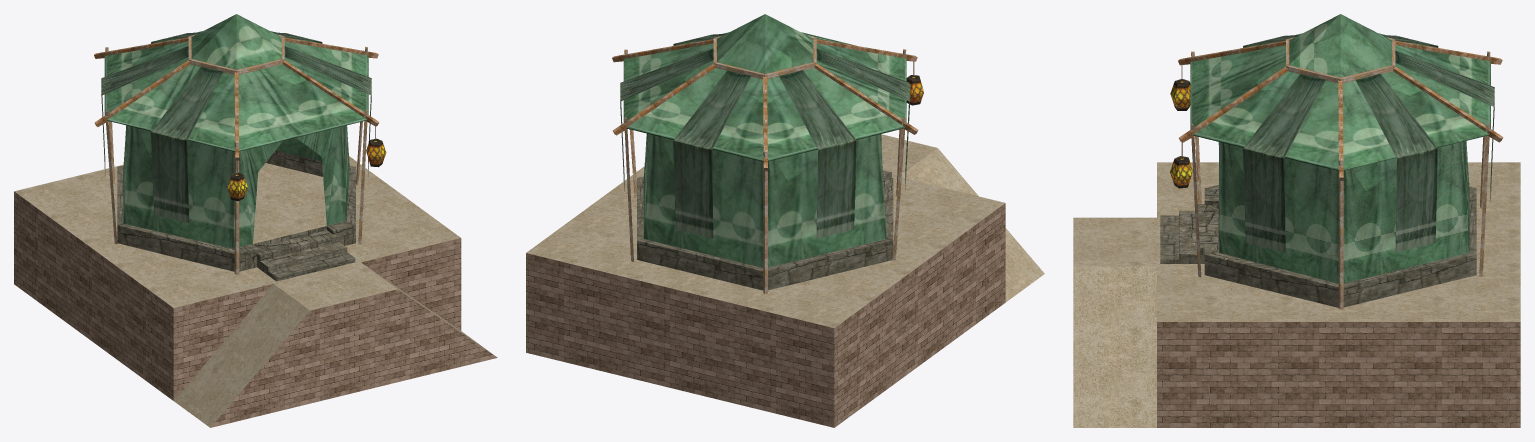
The model's file is ply_nboo_merchant_tent_s01_r0_mesh_l1.fbx.
3 renders of one model, left to right at view 1: azimuth 30°, elevation 25°; view 2: azimuth 150°, elevation 25°; view 3: azimuth 270°, elevation 25°, orthographic. The views are drawn at different scales.
Visible parts, largest first — view 1: mesh_node; view 2: mesh_node; view 3: mesh_node.
Boxes of the visible parts, x1,y1,x2,y2 form: mesh_node: (14,14,497,427); mesh_node: (526,14,1044,427); mesh_node: (1073,14,1520,427).
Size of the model in its own units: 9.05 by 8.81 by 10.7.
